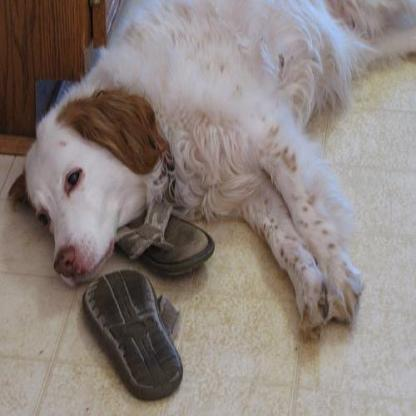Brittany_spaniel: (6, 0, 414, 351)
